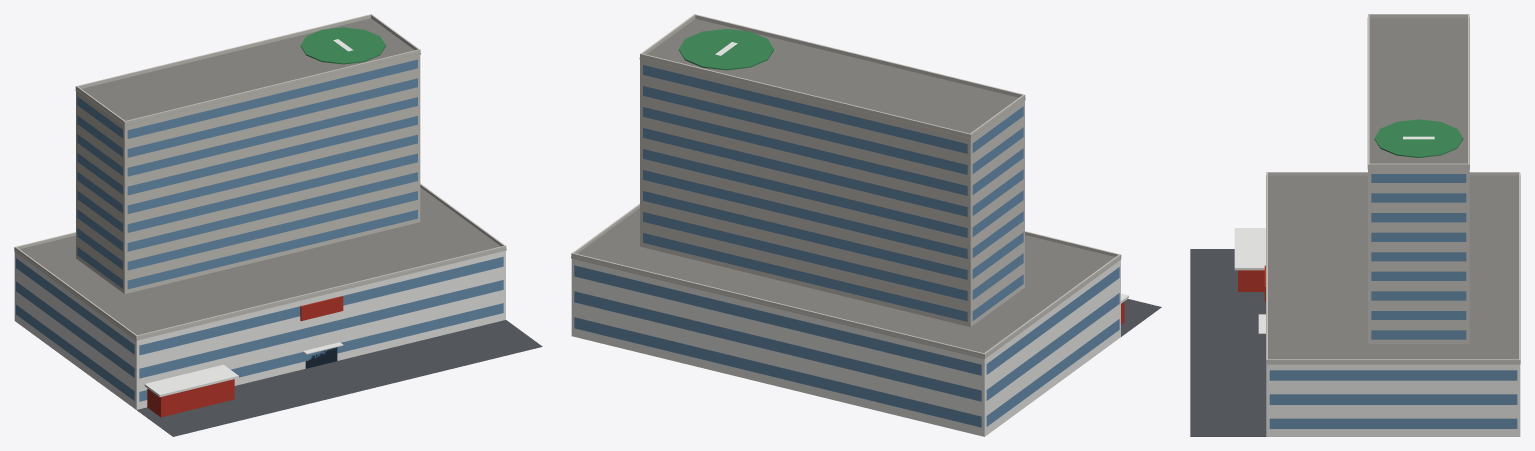
Rendered from hopital_regional.glb.
3 views of the same model, side by side, from view 1: azimuth 30°, elevation 25°; view 2: azimuth 150°, elevation 25°; view 3: azimuth 270°, elevation 25° (orthographic). The views are drawn at different scales.
Parts seen in each view (by area): view 1: hopital_regional; view 2: hopital_regional; view 3: hopital_regional.
Boxes of the visible parts, <box> form: hopital_regional: <box>14,14,542,436</box>; hopital_regional: <box>571,14,1161,436</box>; hopital_regional: <box>1190,14,1520,436</box>.
Size of the model in its own units: 70.1 by 44.1 by 52.05.
1 material, 1 textured.
